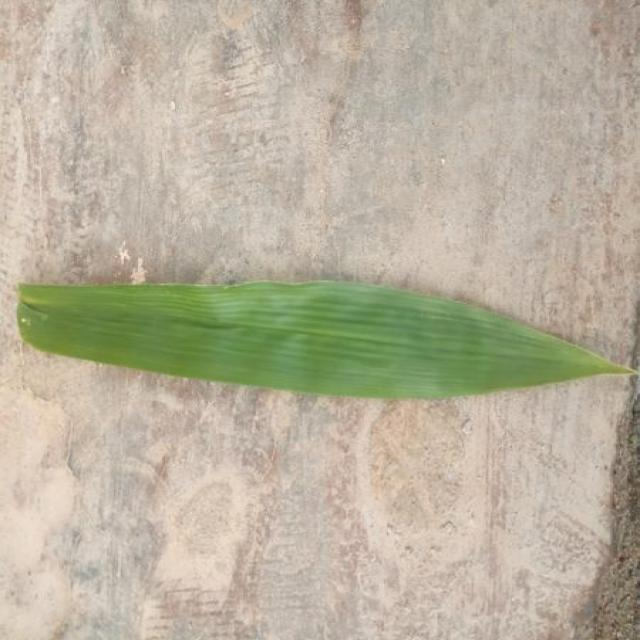Bamboo: (20, 281, 633, 398)
